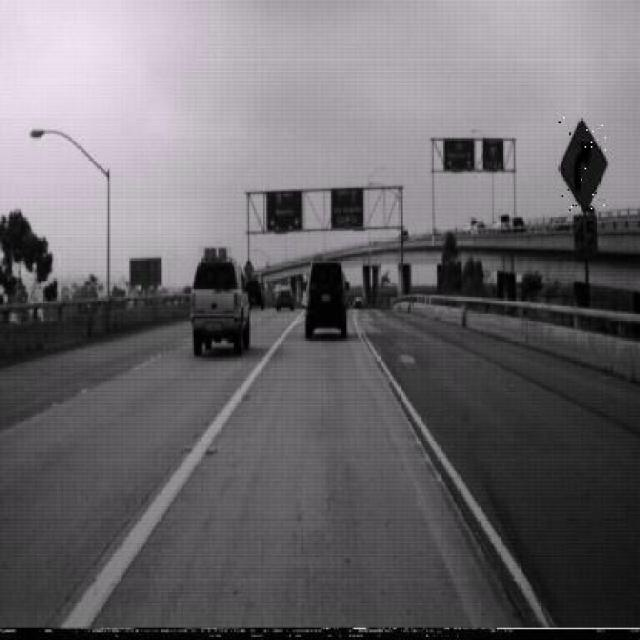curveRight: (559, 118, 608, 214)
